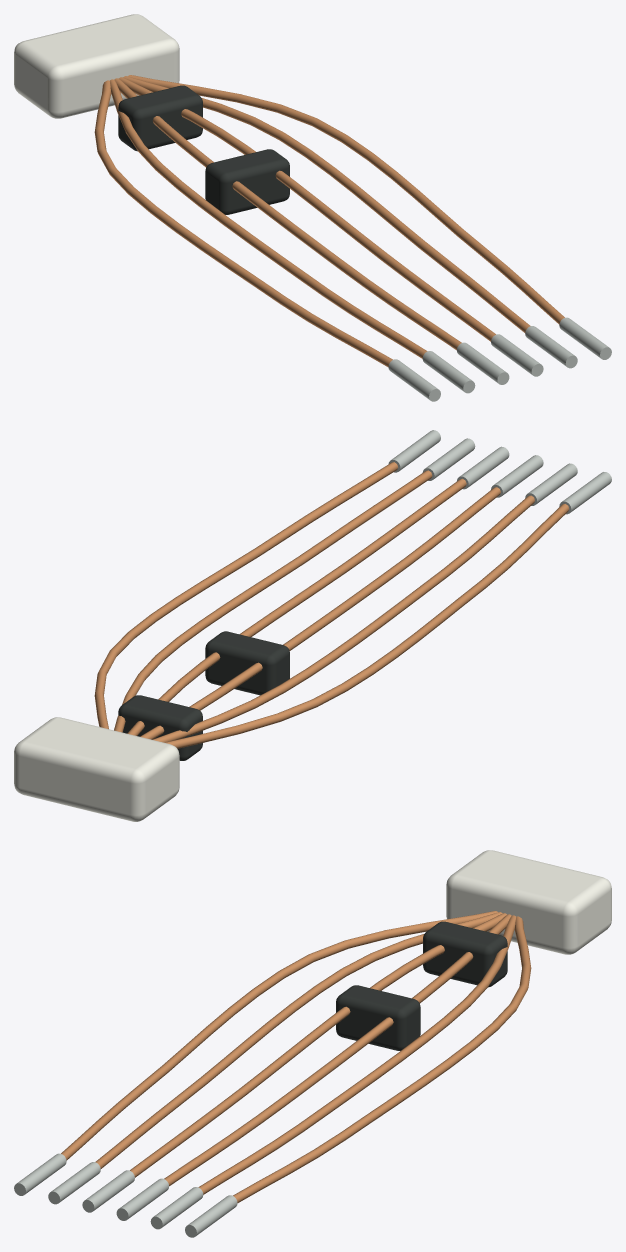
The model's file is spacecraft-thermal-test-chamber-thermocouple-harness-fc5b34d4__32037.glb.
3 renders of one model, top to bottom at view 1: azimuth 30°, elevation 25°; view 2: azimuth 150°, elevation 25°; view 3: azimuth 330°, elevation 25°, orthographic.
Parts seen in each view (by area): view 1: thermocouple-harness; view 2: thermocouple-harness; view 3: thermocouple-harness.
Boxes of the visible parts, x1,y1,x2,y2 form: thermocouple-harness: (14,14,611,401); thermocouple-harness: (14,430,611,821); thermocouple-harness: (14,850,611,1237).
Bounding box in the file's own units: 0.2238 × 0.05 × 0.7675.
